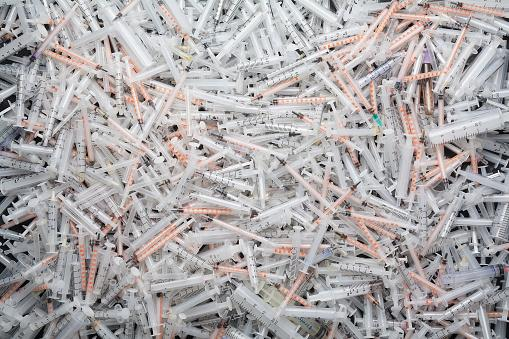Syringe: (231, 285, 302, 338)
